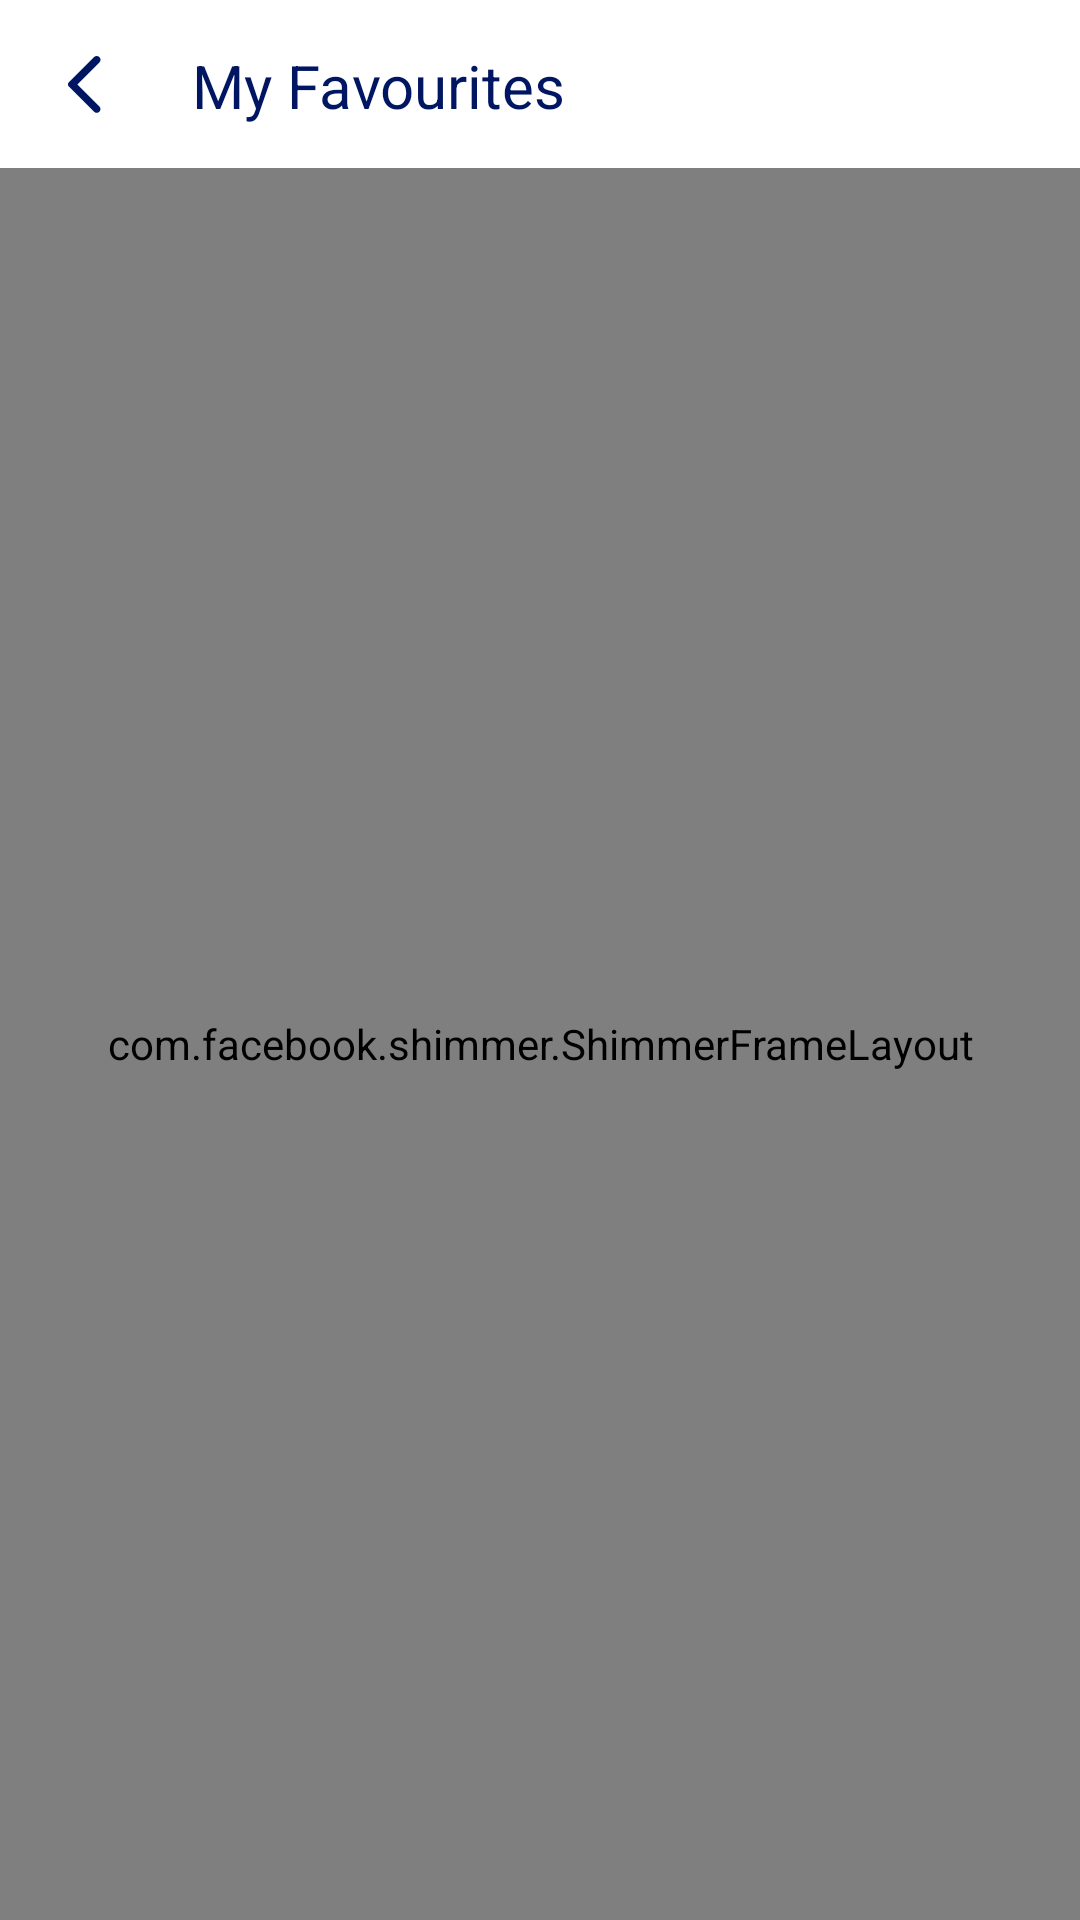

Locate icon controls on the screen. Image size 1080 × 1920, boxes as (x1, y1, x2, y2).
arrow back: (68, 56, 101, 113)
